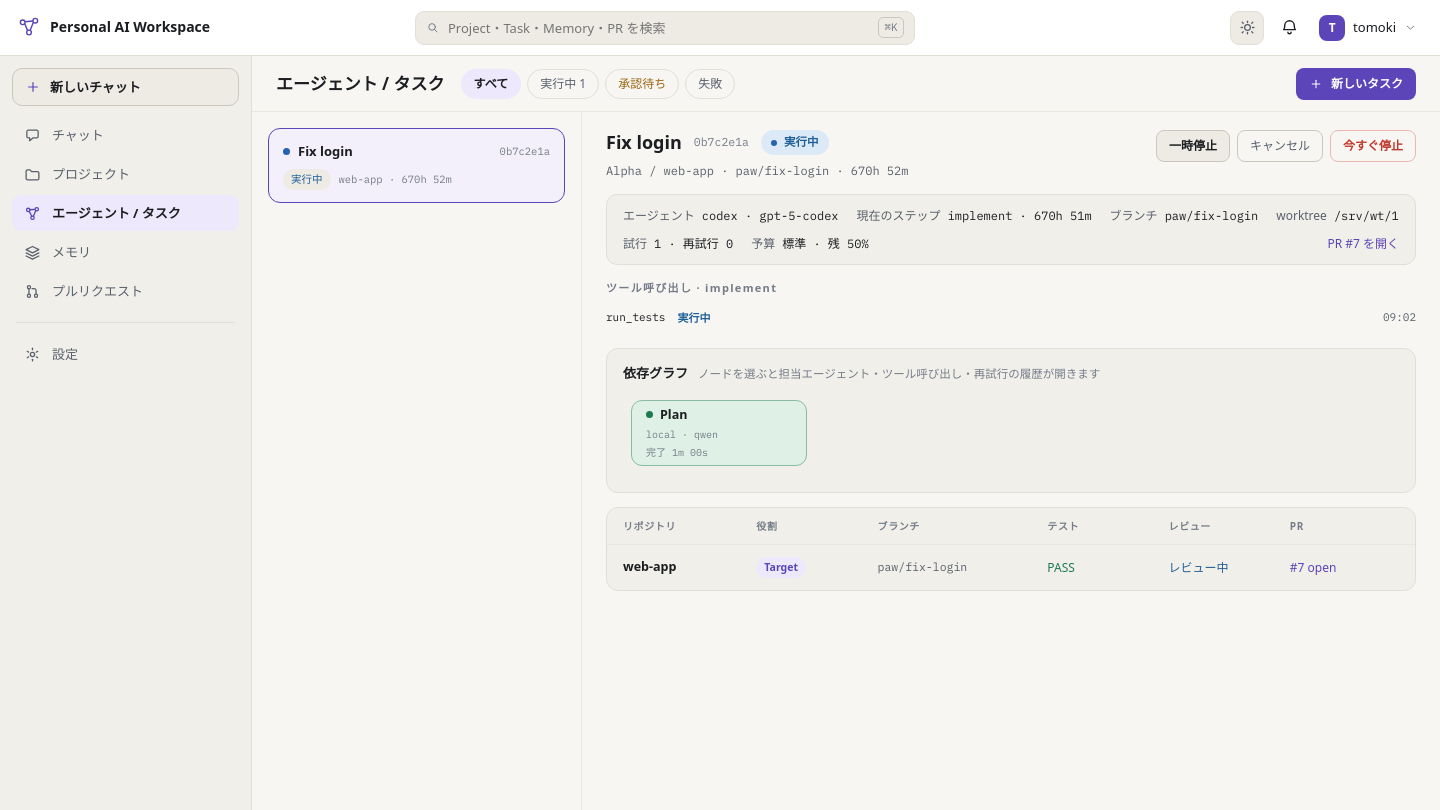
it: apiTaskSource › drives the task screen end to end and shows the Backend's refusal
Expected: the text "run_tests" is shown, x1=606 y1=309 x2=665 y2=327
Click the button "一時停止" at (1193, 146), box x1=1156 y1=130 x2=1230 y2=162
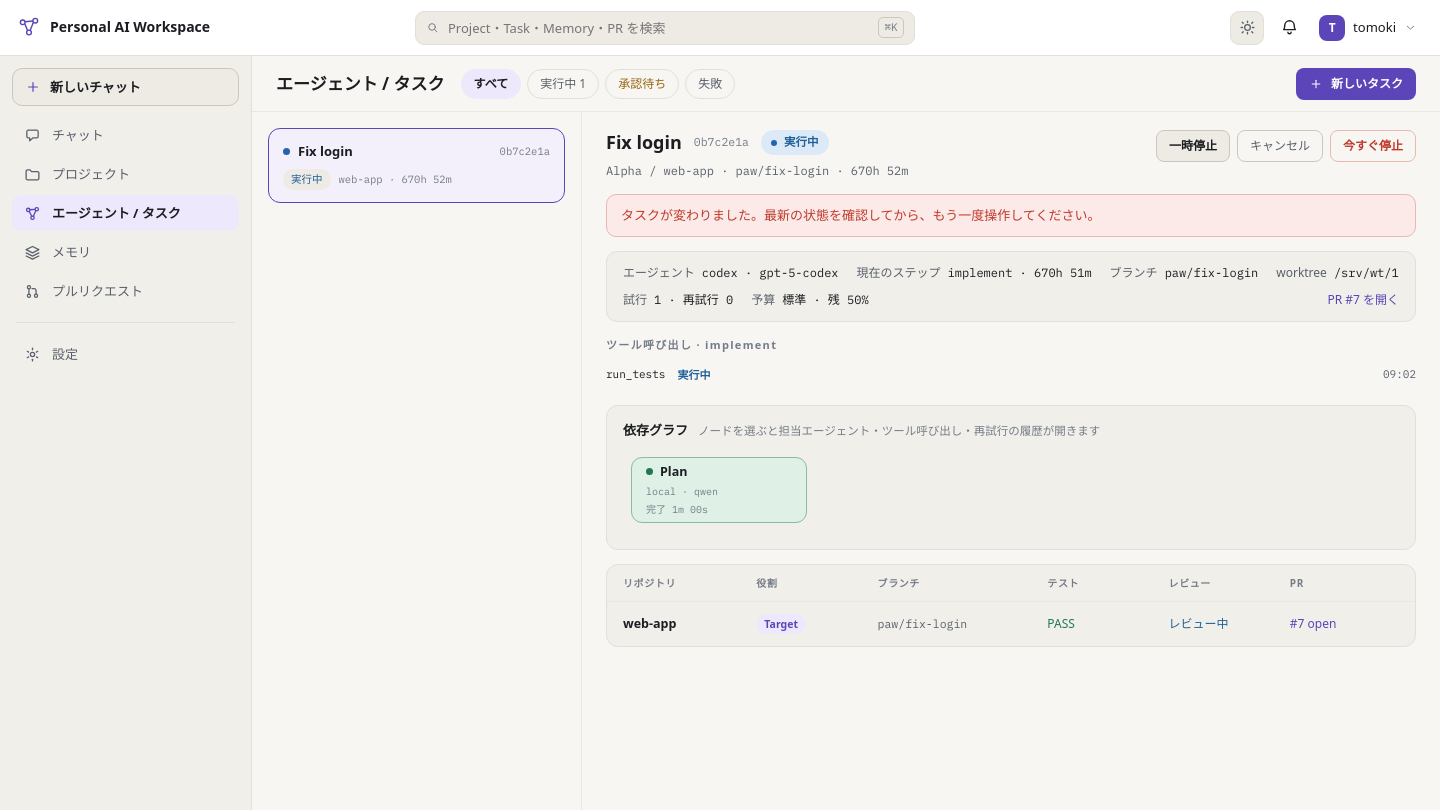
Result: the message shows "タスクが変わりました" at x1=621 y1=206 x2=1100 y2=224
